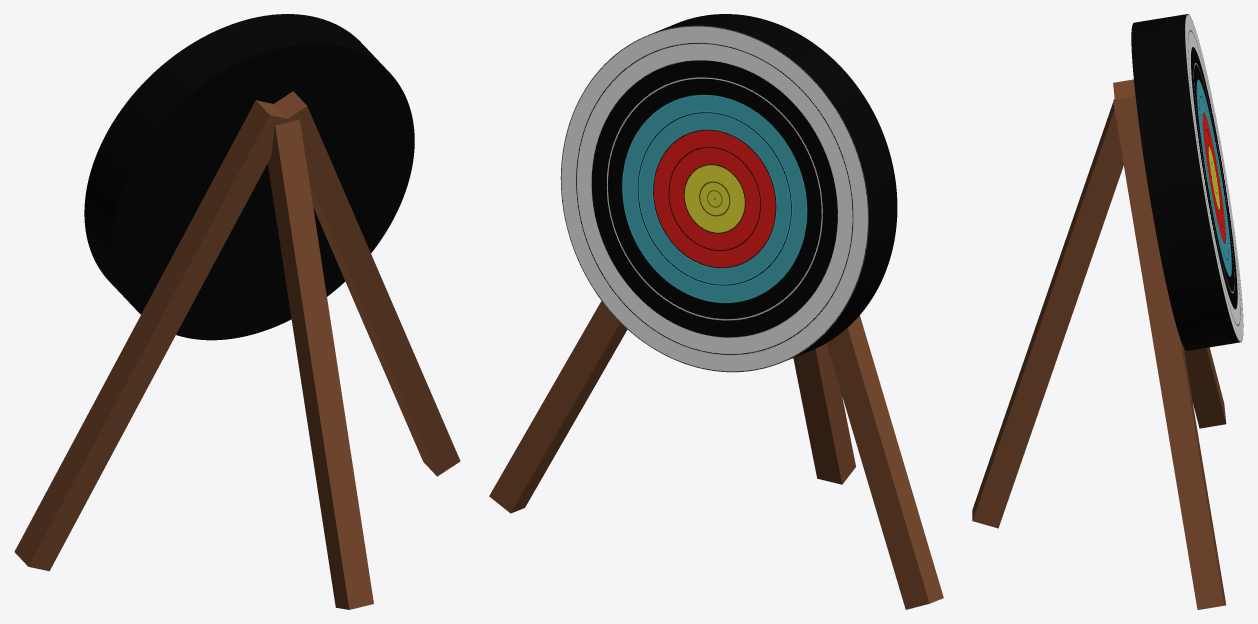
File: Target (1).fbx
3 renders of one model, left to right at view 1: azimuth 30°, elevation 25°; view 2: azimuth 150°, elevation 25°; view 3: azimuth 270°, elevation 25°, orthographic. The views are drawn at different scales.
Visible parts, largest first — view 1: Wood, Target_cell.013, Target_cell.010, Target, Target_cell.016, Target_cell.011, Target_cell.017, Target_cell.004, Target_cell.008, Target_cell, Target_cell.003, Target_cell.002 (+5 smaller); view 2: Target, Wood, Target_cell.010, Target_cell.006, Target_cell.008, Target_cell.016, Target_cell.004; view 3: Wood, Target, Target_cell.017, Target_cell.009, Target_cell.003, Target_cell.013, Target_cell.012, Target_cell.008, Target_cell.015, Target_cell.014, Target_cell.001.
Boxes of the visible parts, <box> form: Wood: <box>14,91,460,609</box>; Target_cell.013: <box>263,43,399,191</box>; Target_cell.010: <box>123,66,262,191</box>; Target: <box>84,15,411,333</box>; Target_cell.016: <box>95,156,262,245</box>; Target_cell.011: <box>176,193,263,340</box>; Target_cell.017: <box>264,86,414,191</box>; Target_cell.004: <box>171,49,265,191</box>; Target_cell.008: <box>186,16,289,103</box>; Target_cell: <box>252,193,291,334</box>; Target_cell.003: <box>265,166,412,228</box>; Target_cell.002: <box>96,192,261,281</box>; Target: <box>560,14,897,372</box>; Wood: <box>489,301,943,609</box>; Target_cell.010: <box>817,71,885,143</box>; Target_cell.006: <box>847,129,885,259</box>; Target_cell.008: <box>720,16,793,60</box>; Target_cell.016: <box>870,143,897,253</box>; Target_cell.004: <box>787,28,844,81</box>; Wood: <box>972,79,1226,609</box>; Target: <box>1131,14,1243,350</box>; Target_cell.017: <box>1146,167,1214,260</box>; Target_cell.009: <box>1160,67,1200,173</box>; Target_cell.003: <box>1163,259,1225,319</box>; Target_cell.013: <box>1132,51,1162,168</box>; Target_cell.012: <box>1131,35,1186,70</box>; Target_cell.008: <box>1131,14,1186,43</box>; Target_cell.015: <box>1193,301,1237,344</box>; Target_cell.014: <box>1161,252,1215,267</box>; Target_cell.001: <box>1175,317,1212,345</box>.
Size of the model in its own units: 3.51 by 3.99 by 1.99.
